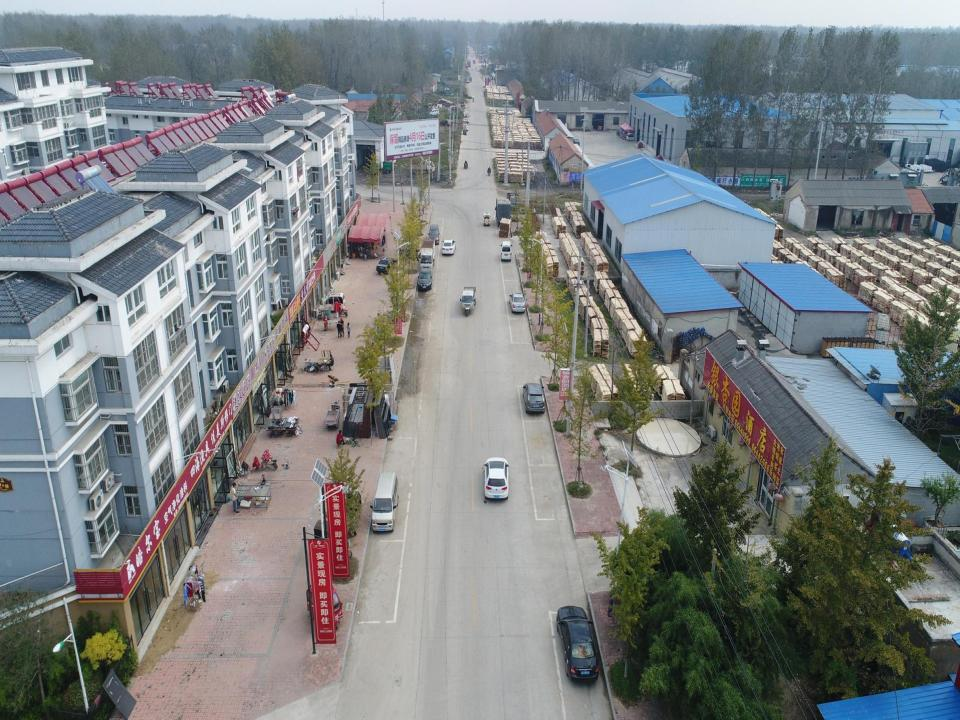car: (556, 600, 603, 686), (482, 456, 511, 498), (523, 378, 548, 415), (506, 291, 528, 313), (376, 255, 398, 277), (417, 264, 433, 292), (442, 234, 455, 257), (427, 222, 440, 245), (573, 137, 580, 148), (463, 124, 468, 132)
truck: (417, 234, 436, 268), (495, 195, 511, 229), (408, 158, 436, 175), (505, 190, 522, 212)
van: (370, 468, 400, 534), (499, 241, 514, 259), (428, 108, 440, 116)
